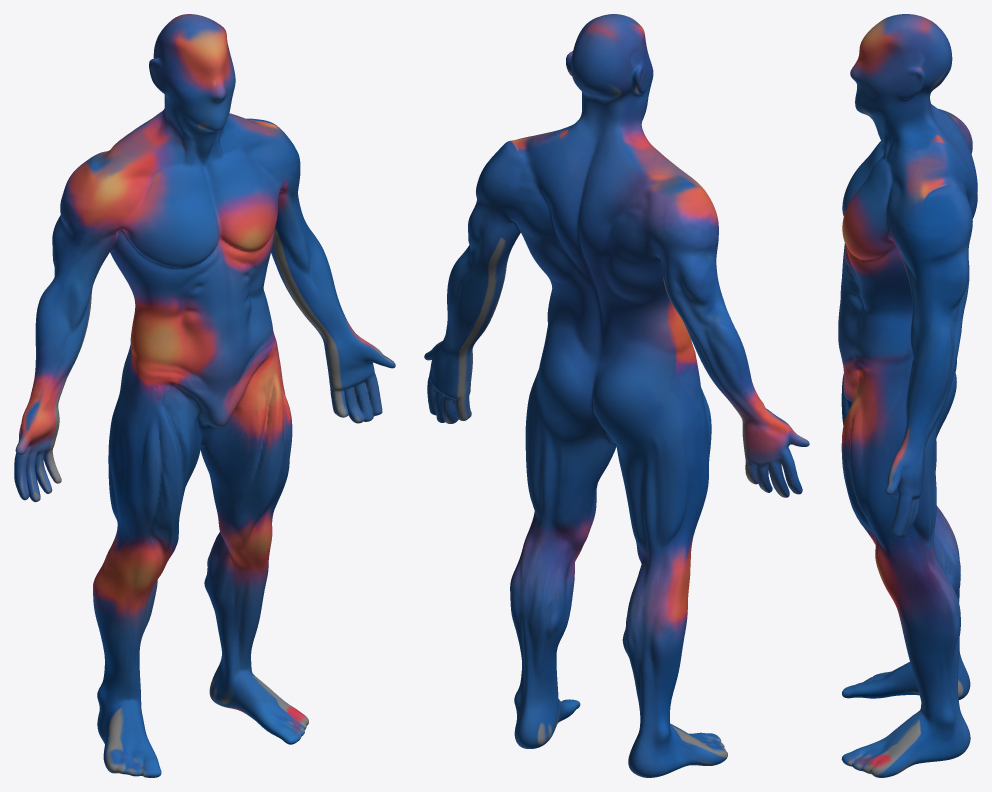
The model's file is human-model.glb.
3 views of the same model, side by side, from view 1: azimuth 30°, elevation 25°; view 2: azimuth 150°, elevation 25°; view 3: azimuth 270°, elevation 25° (orthographic). The views are drawn at different scales.
Parts seen in each view (by area): view 1: tripo_node_2b34650d-5614-4811-a684-7fefb2eba1d0; view 2: tripo_node_2b34650d-5614-4811-a684-7fefb2eba1d0; view 3: tripo_node_2b34650d-5614-4811-a684-7fefb2eba1d0.
Part boxes in pixels (x1,y1,x2,y2): tripo_node_2b34650d-5614-4811-a684-7fefb2eba1d0: [14, 14, 395, 777]; tripo_node_2b34650d-5614-4811-a684-7fefb2eba1d0: [424, 14, 809, 777]; tripo_node_2b34650d-5614-4811-a684-7fefb2eba1d0: [838, 14, 977, 777].
Bounding box in the file's own units: 0.5491 × 1 × 0.1766.
Materials: 1 (1 with a texture image).
